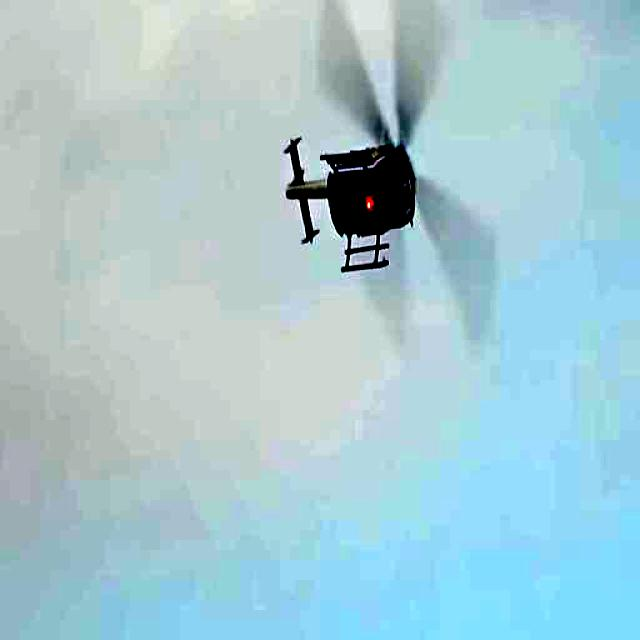drone: (240, 12, 468, 305)
